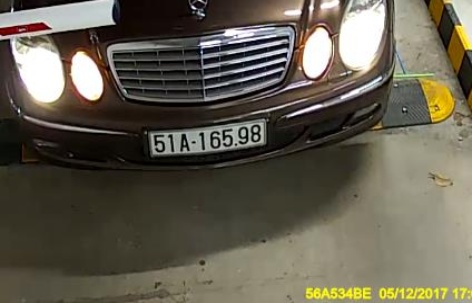plate: (146, 121, 266, 157)
